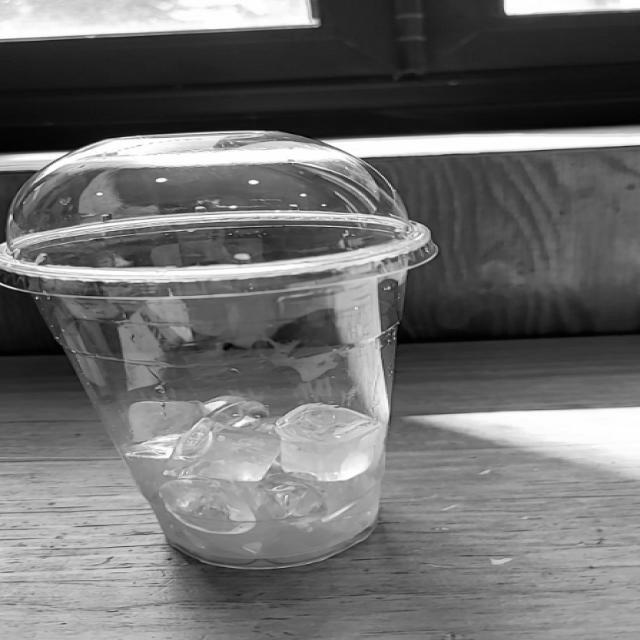bottle: (0, 244, 408, 568)
